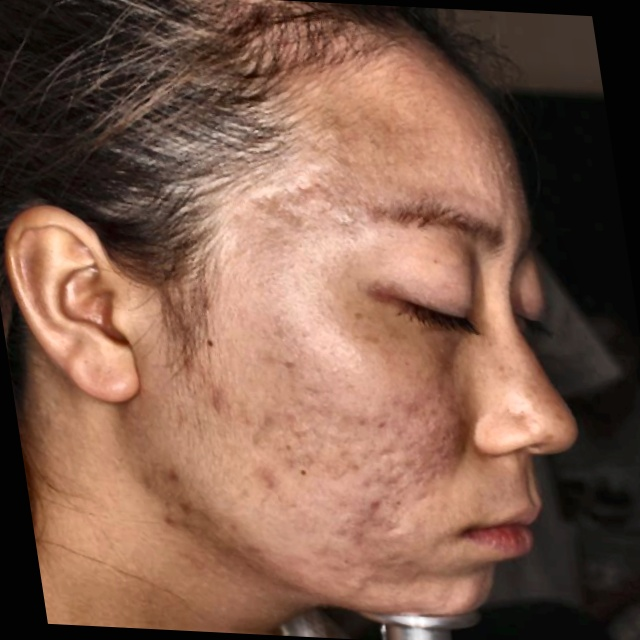comedone: (206, 390, 245, 427), (400, 388, 428, 420), (257, 463, 282, 497)
